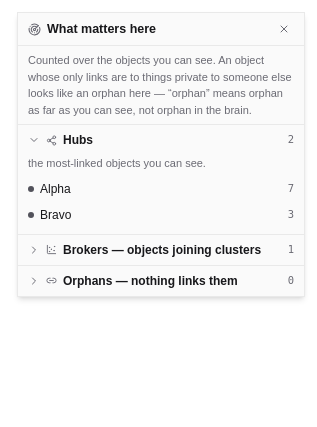
Test case: InsightPanelView › disables the filter when there is nothing stranded
Click the button "Orphans — nothing links them 0".
click(161, 280)  # box 18,266 -> 304,296
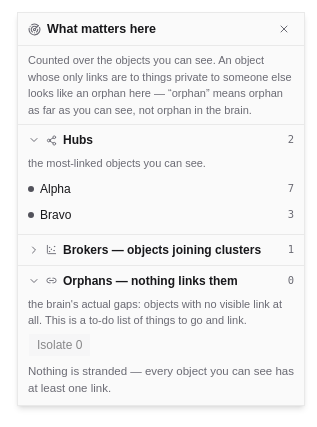
Now the text "every object you can see has at least one link" is shown, box 28,364 -> 294,394
